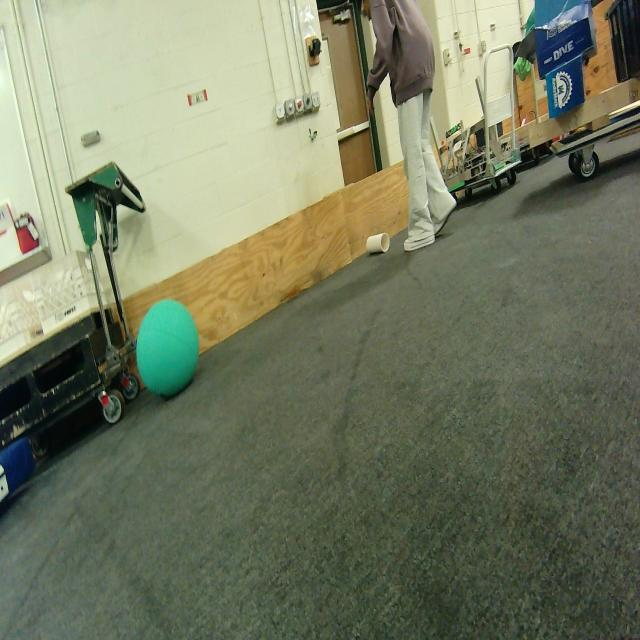algae: (134, 292, 205, 402)
coral: (362, 224, 392, 260)
